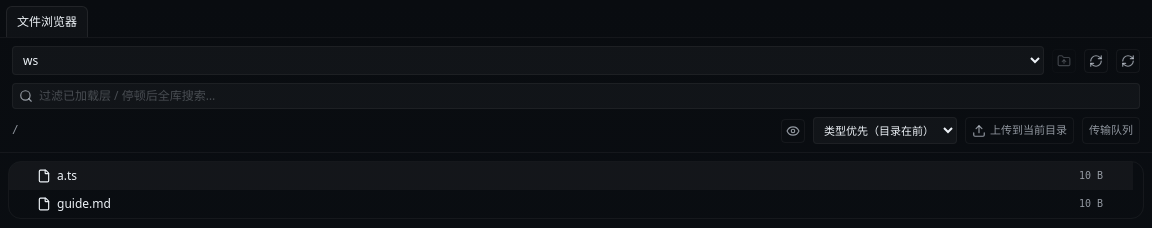
Scenario: FileBrowserSurface：Markdown 预览与 md/文本 切换 › 非 Markdown 文本不出现切换开关：仍是带行号的文本视图
This screenshot has width=1152, height=228.
Click the button "a.ts 10 B" at x=44, y=176, box left=37, top=166, right=1103, bottom=186
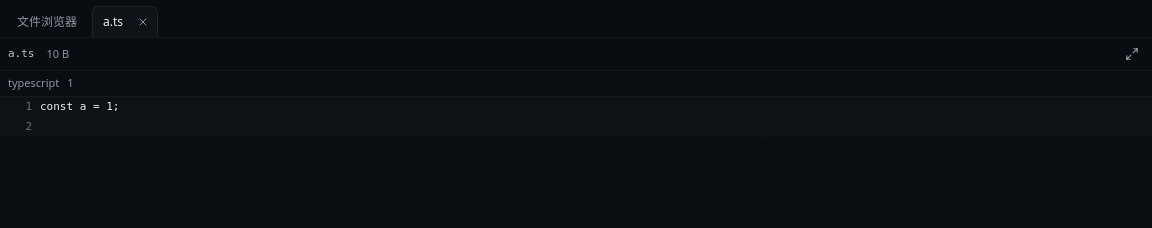
Expected: the element with test id "text-viewer" shows "const a = 1;", left=0, top=96, right=1151, bottom=136
